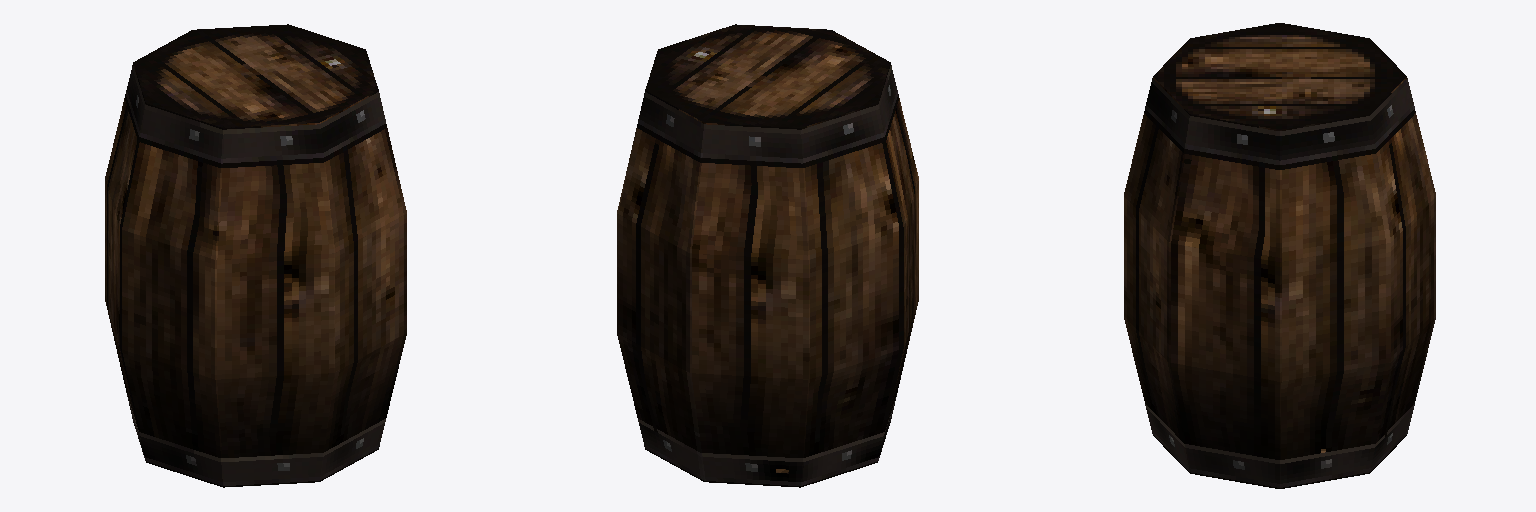
The picture shows the model from 3 angles: view 1: azimuth 30°, elevation 25°; view 2: azimuth 150°, elevation 25°; view 3: azimuth 270°, elevation 25°; orthographic projection.
Parts seen in each view (by area): view 1: Mesh_0; view 2: Mesh_0; view 3: Mesh_0.
Boxes of the visible parts, box(x1,y1,x2,y2) form: Mesh_0: box(105, 24, 406, 487); Mesh_0: box(617, 24, 918, 487); Mesh_0: box(1124, 23, 1435, 488).
Bounding box in the file's own units: 0.8127 × 1.03 × 0.8127.
1 materials, 1 textured.